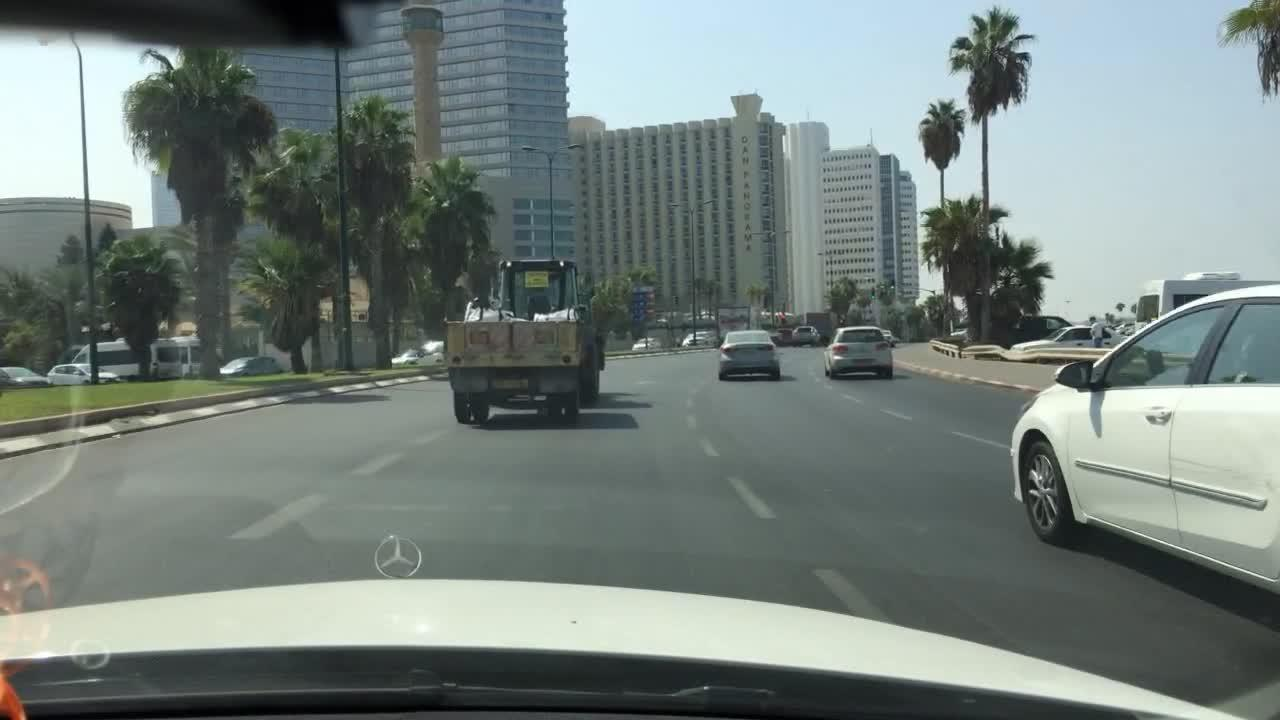Mercedes: (361, 519, 445, 588)
